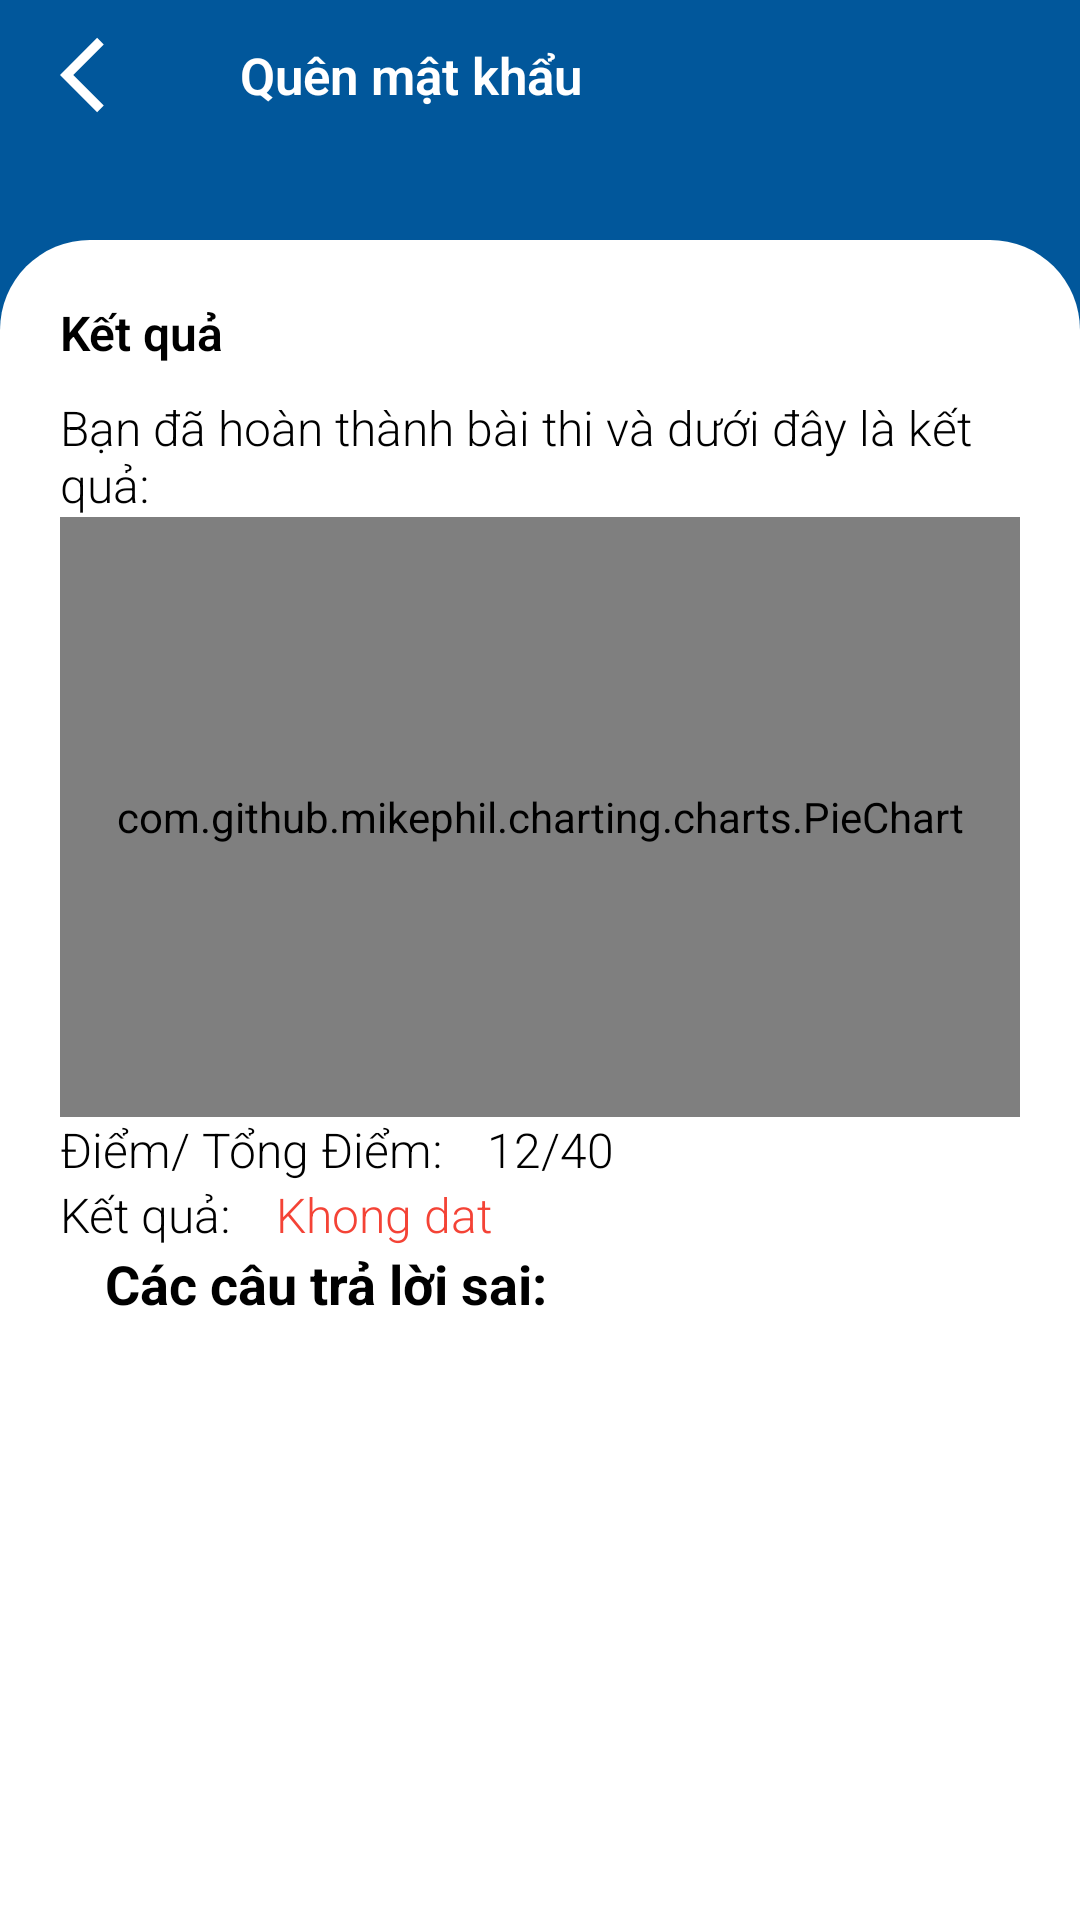

Named icons in this screenshot (1080x1920) and their centers, (x,y):
back: (82,75)
